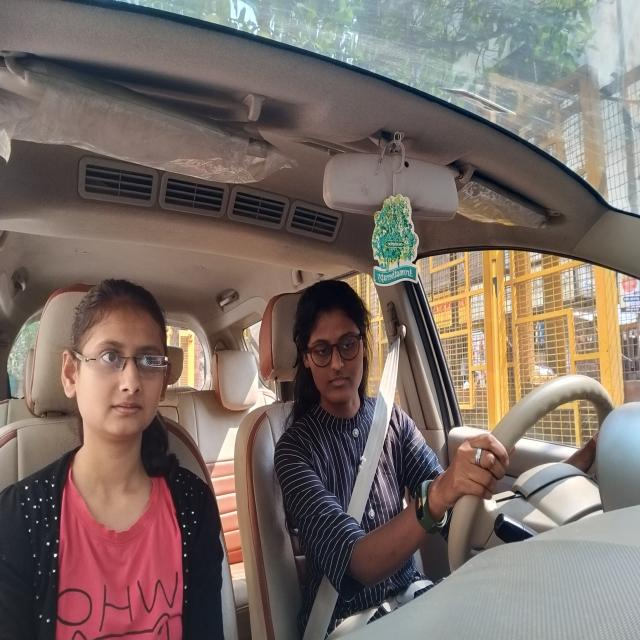person: (69, 297, 168, 433), (284, 288, 378, 404)
